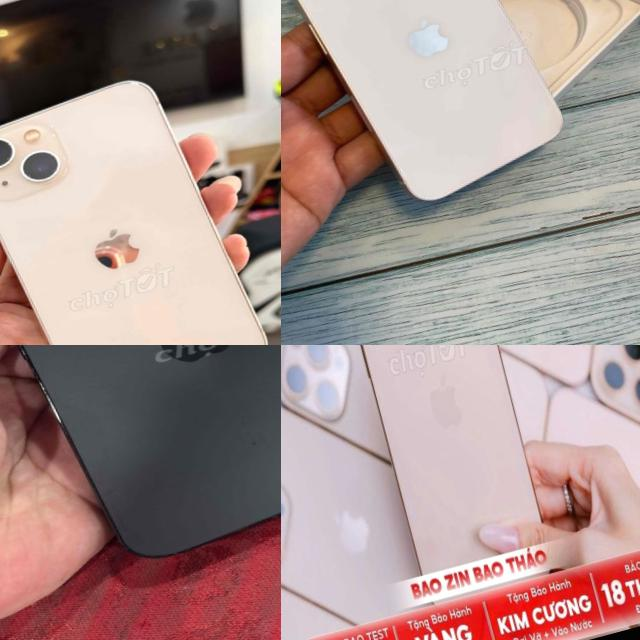gen_12_13: (0, 58, 274, 345), (281, 0, 580, 227)
gen_14: (0, 345, 281, 583)
gen_16: (315, 345, 560, 586)
